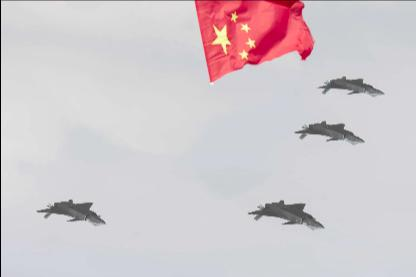F4: (246, 199, 324, 229), (35, 199, 106, 226), (293, 121, 365, 144), (316, 76, 384, 97)
